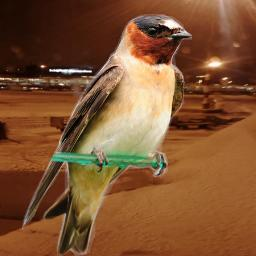Swallow: (22, 14, 192, 256)
